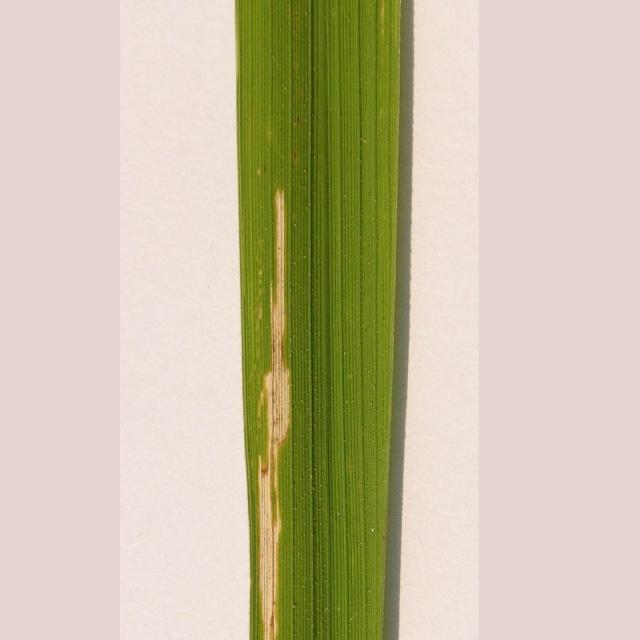leaf blight: (238, 179, 337, 640)
